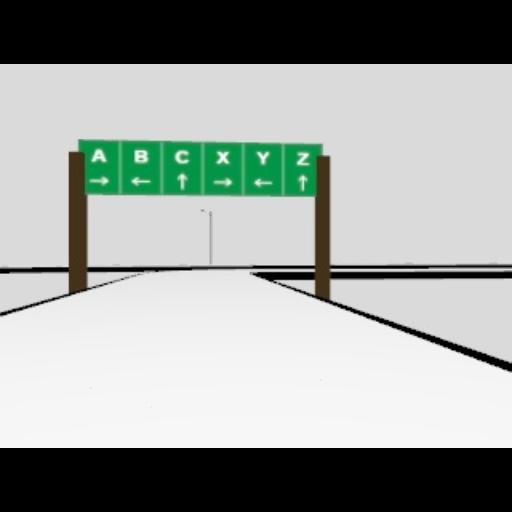A: (89, 147, 107, 161)
B: (133, 148, 147, 162)
C: (173, 149, 189, 163)
Left: (130, 176, 150, 186), (252, 177, 272, 187)
Right: (88, 176, 110, 186), (212, 178, 232, 186)
Straight: (297, 173, 307, 191), (178, 173, 188, 191)
X: (216, 150, 230, 164)
Y: (257, 151, 271, 165)
Z: (296, 151, 310, 165)
